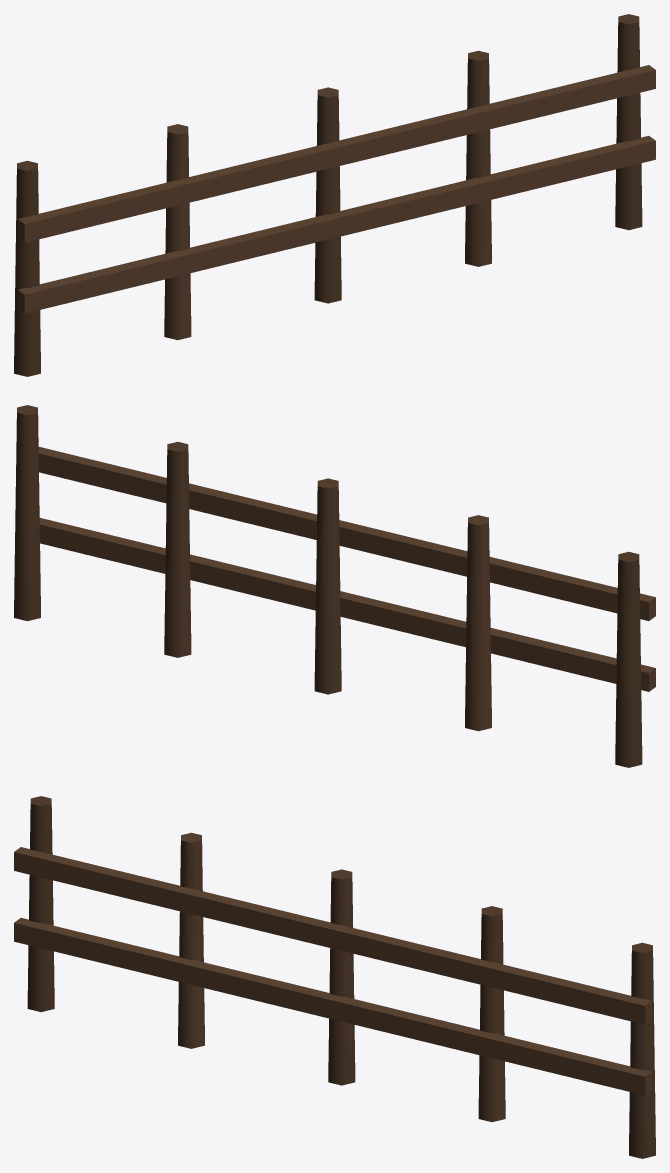
The model's file is cerca_madeira.glb.
The picture shows the model from 3 angles, top to bottom: view 1: azimuth 30°, elevation 25°; view 2: azimuth 150°, elevation 25°; view 3: azimuth 330°, elevation 25°; orthographic projection.
Parts seen in each view (by area): view 1: Prop; view 2: Prop; view 3: Prop.
Part boxes in pixels (x1,y1,x2,y2): Prop: (14,14,655,376); Prop: (14,405,655,767); Prop: (14,796,655,1158).
Bounding box in the file's own units: 4.2 × 1.3 × 0.2179.
